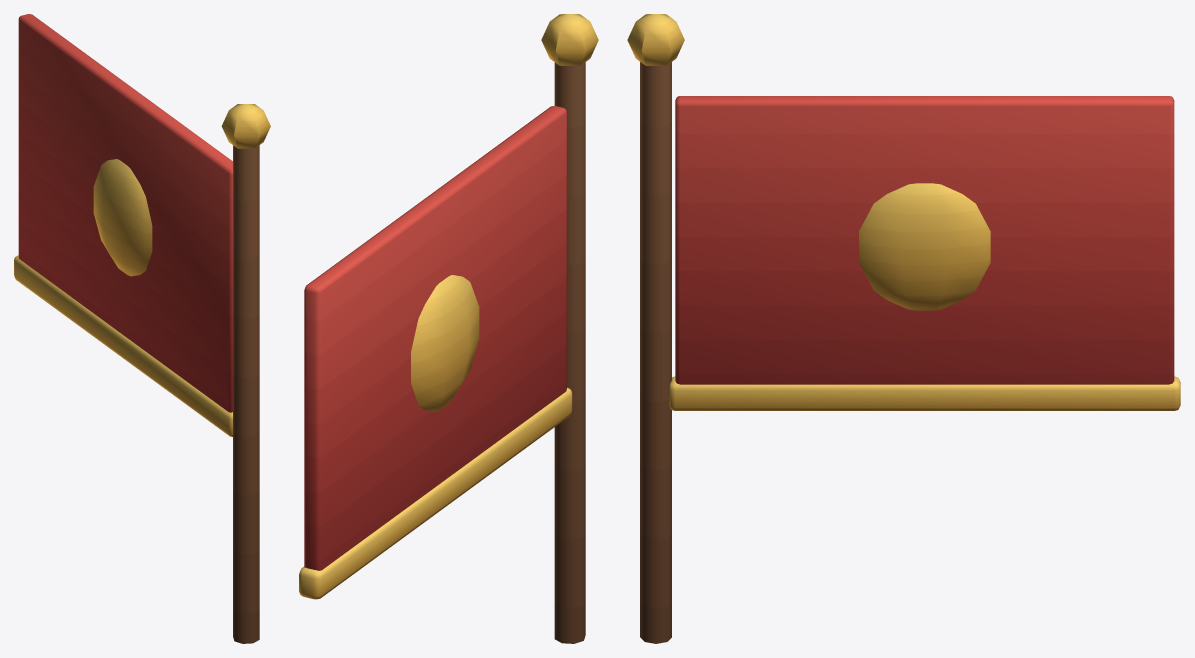
Rendered from banner.glb.
3 renders of one model, left to right at view 1: azimuth 30°, elevation 25°; view 2: azimuth 150°, elevation 25°; view 3: azimuth 270°, elevation 25°, orthographic. The views are drawn at different scales.
Visible parts, largest first — view 1: banner; view 2: banner; view 3: banner.
Boxes of the visible parts, x1,y1,x2,y2 form: banner: (14,14,270,643); banner: (299,14,598,643); banner: (627,14,1180,643).
Bounding box in the file's own units: 0.0779 × 1.07 × 0.865.
Materials: 1 (1 with a texture image).
